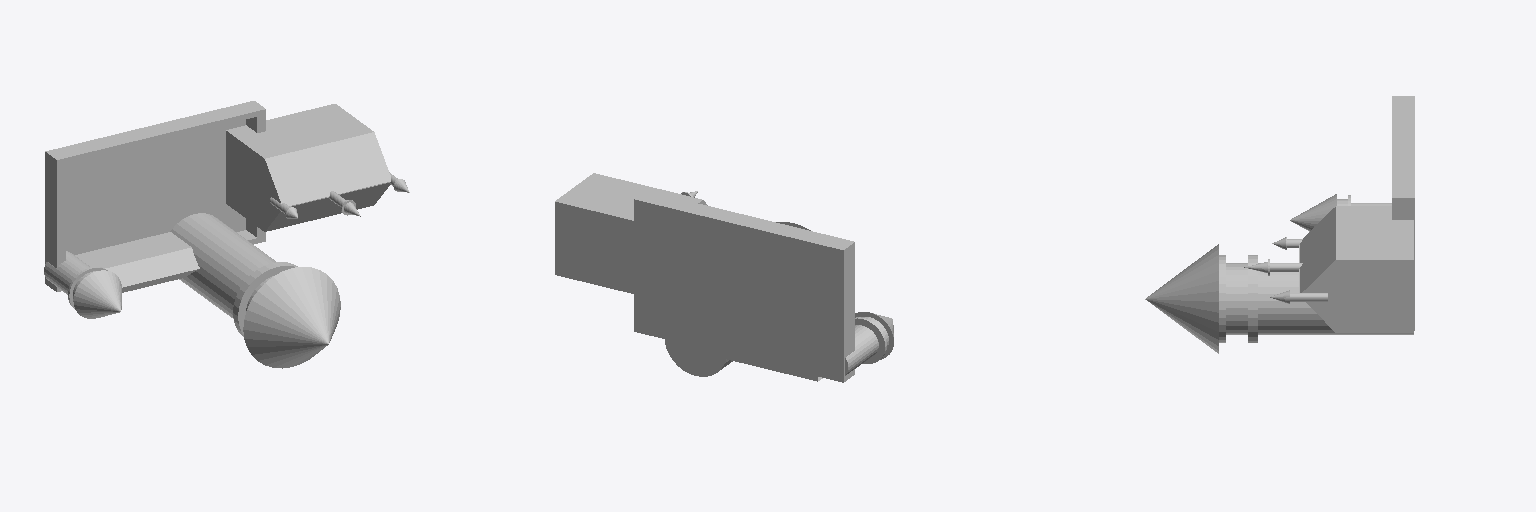
The model's file is hogwarts1.obj.
3 views of the same model, side by side, from view 1: azimuth 30°, elevation 25°; view 2: azimuth 150°, elevation 25°; view 3: azimuth 270°, elevation 25° (orthographic).
Parts seen in each view (by area): view 1: Cube.002_Cube.004; view 2: Cube.002_Cube.004; view 3: Cube.002_Cube.004.
Part boxes in pixels (x1,y1,x2,y2): Cube.002_Cube.004: (44,101,409,368); Cube.002_Cube.004: (555,173,893,382); Cube.002_Cube.004: (1145,96,1414,353).
Bounding box in the file's own units: 79.83 × 44.47 × 60.55.